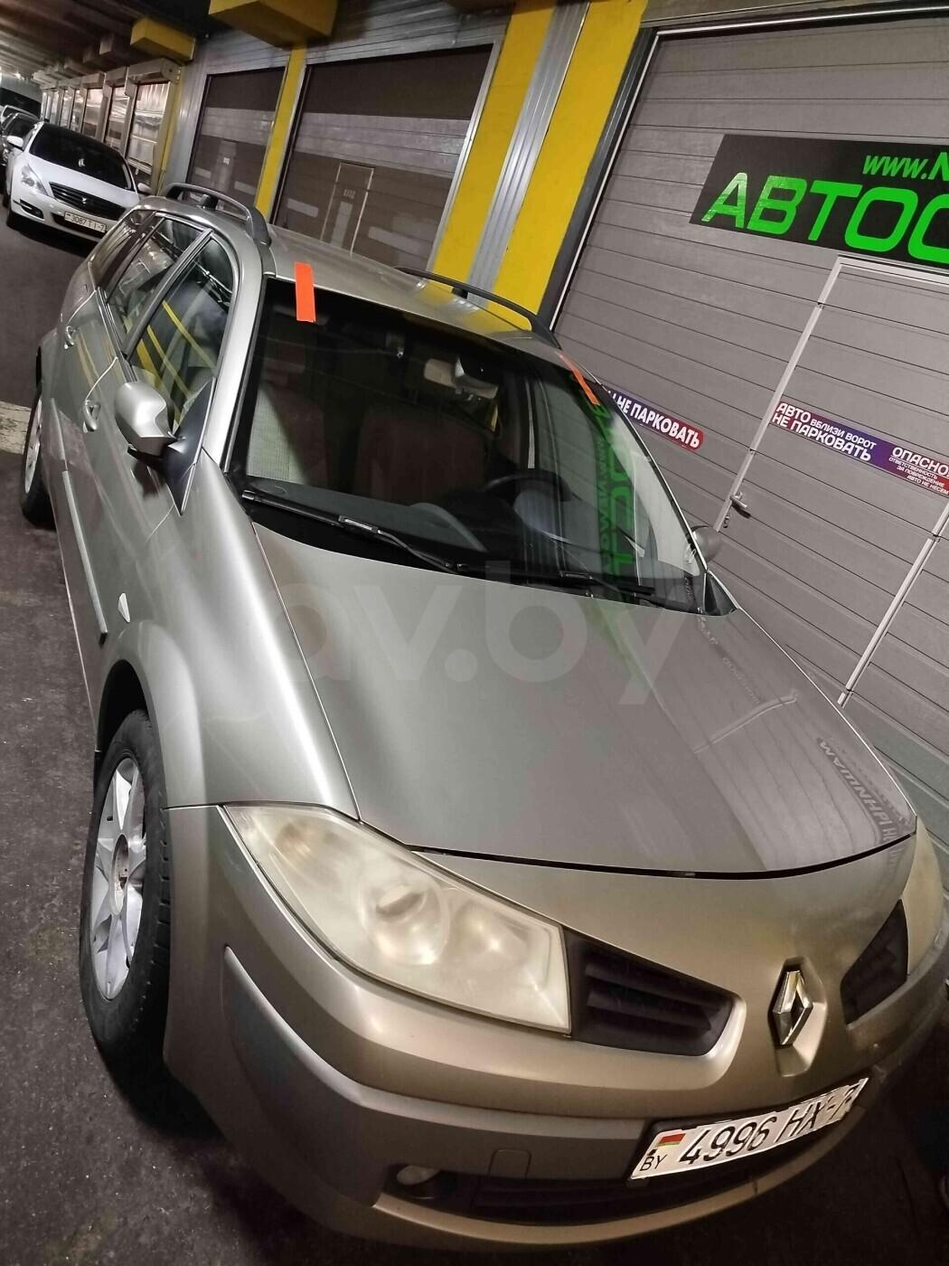Megane_2005-2009: (18, 201, 949, 1259)
